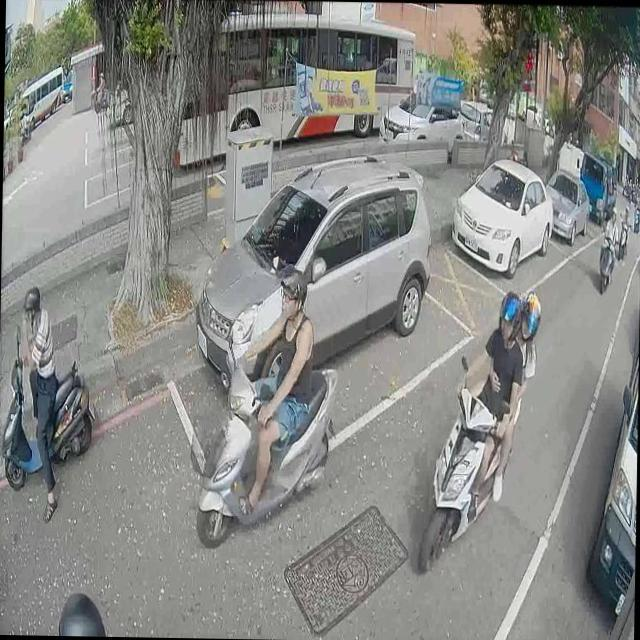person: (226, 258, 320, 520), (459, 292, 542, 500), (456, 286, 524, 526), (10, 284, 62, 518), (57, 590, 109, 636), (602, 208, 619, 280), (92, 68, 106, 102), (620, 204, 630, 227), (632, 192, 640, 218), (21, 104, 26, 130)
